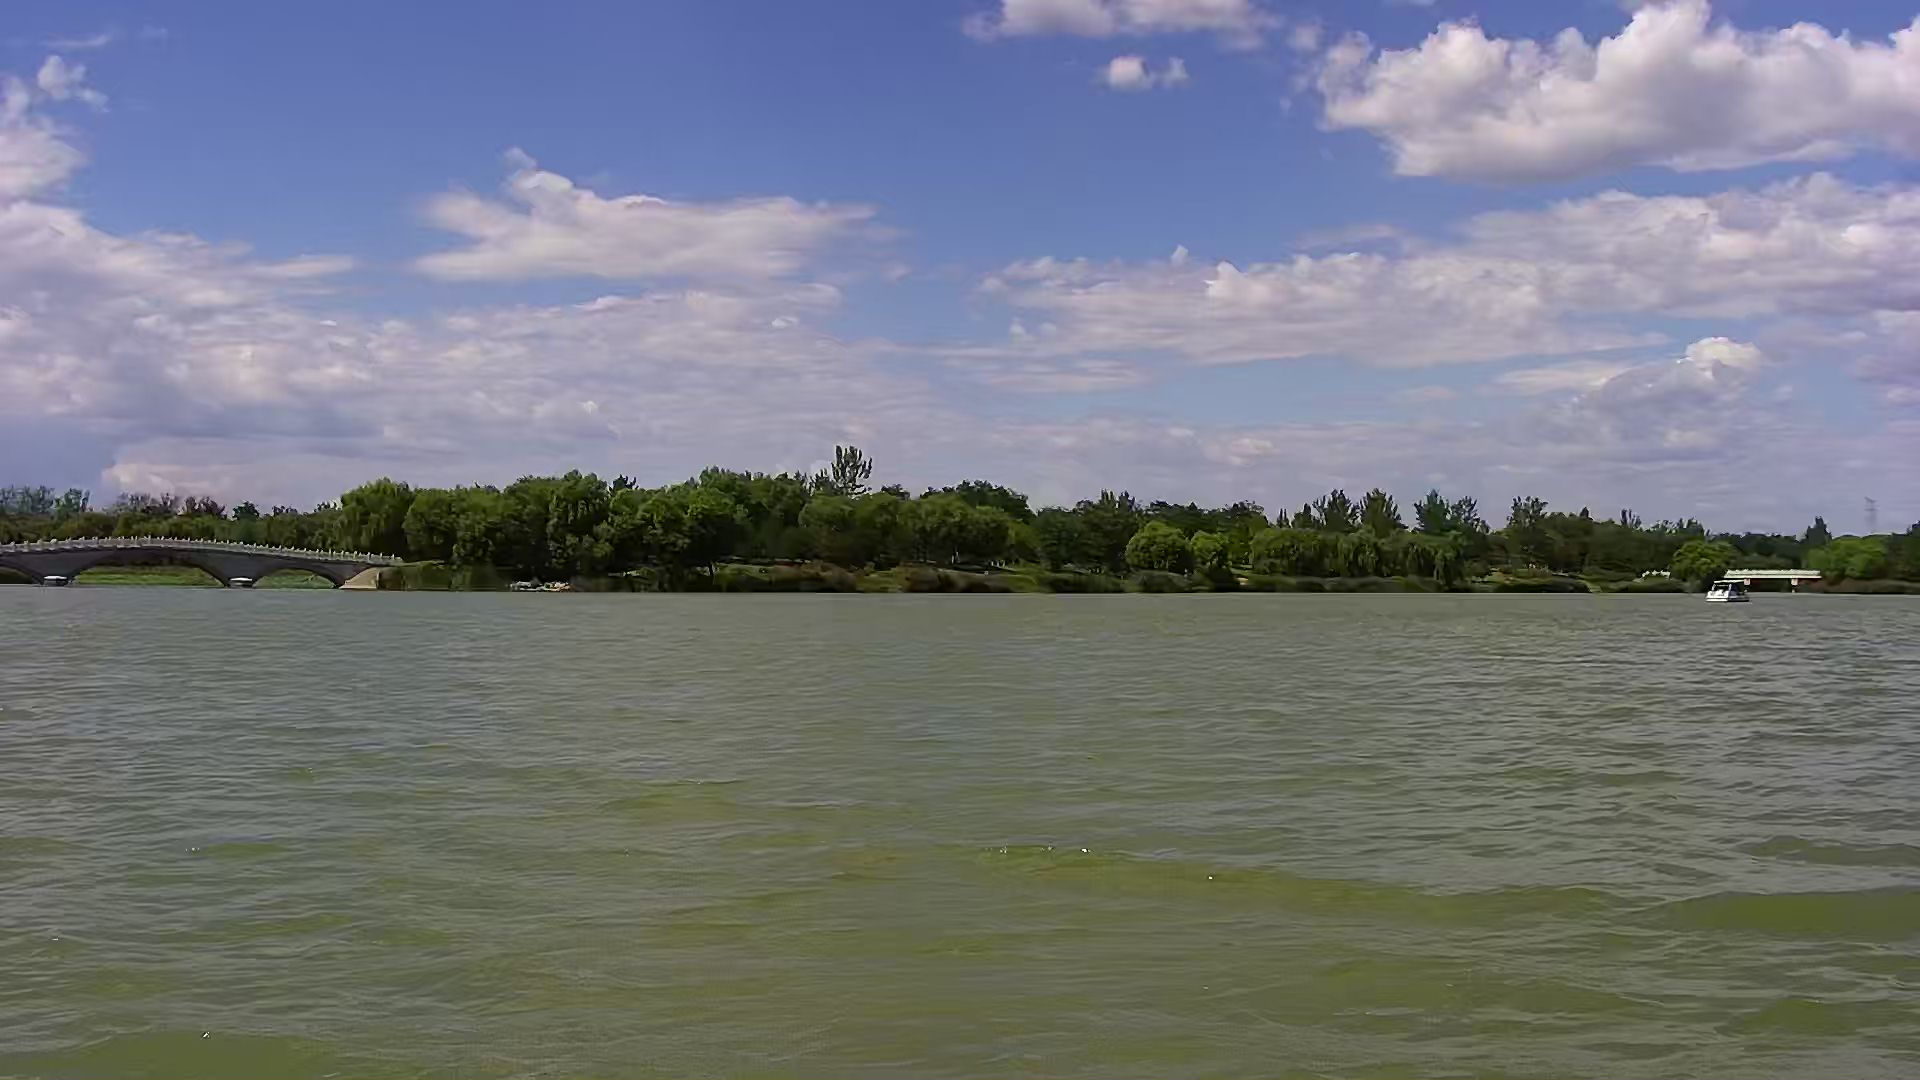boat: (1695, 571, 1760, 612)
bridge: (1, 524, 425, 601)
